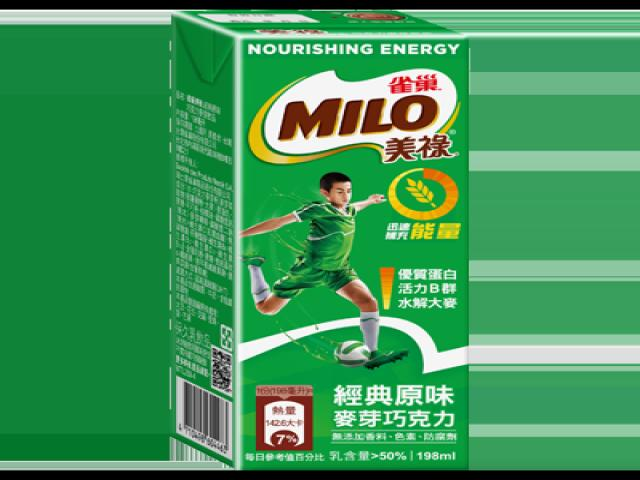drink_box: (171, 11, 465, 469)
